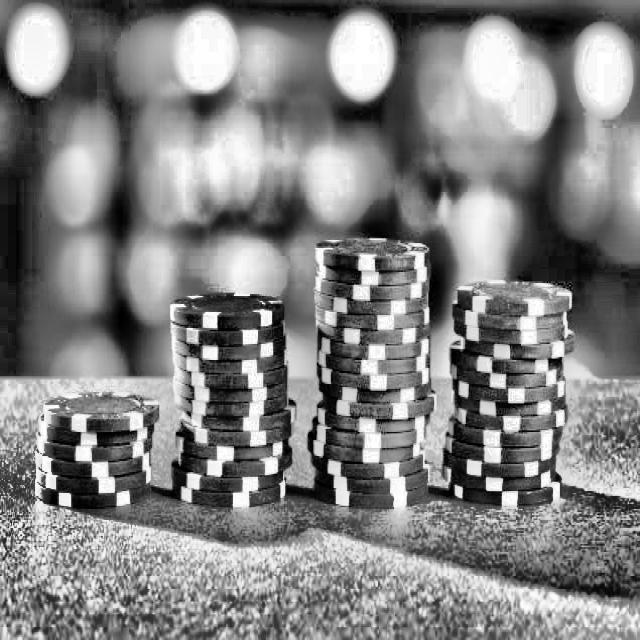Chip: (306, 228, 439, 527), (162, 275, 300, 522), (443, 257, 575, 513), (28, 384, 162, 524)
